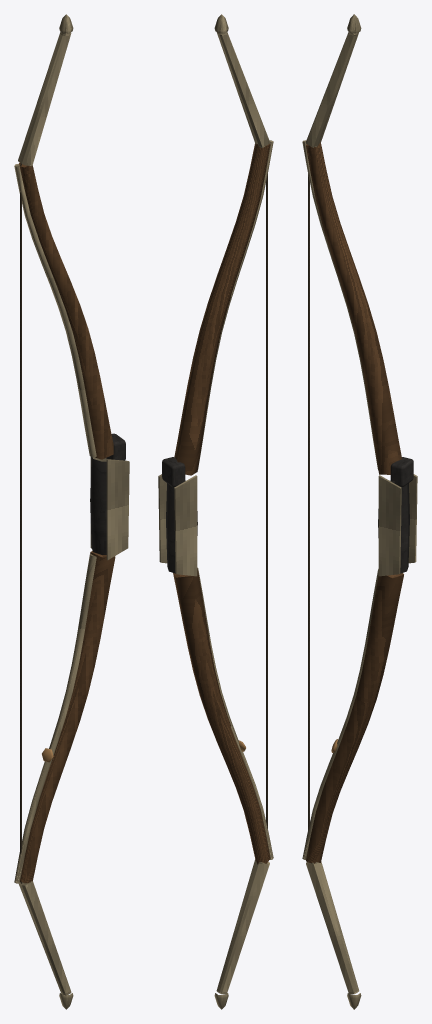
Rendered from composite-bow.lod2.glb.
3 renders of one model, left to right at view 1: azimuth 30°, elevation 25°; view 2: azimuth 210°, elevation 25°; view 3: azimuth 330°, elevation 25°, orthographic.
Visible parts, largest first — view 1: horn / polished horn and bone, wood / oiled hardwood, leather / oiled leather wrap, cord / waxed silk cord wrap; view 2: wood / oiled hardwood, horn / polished horn and bone, leather / oiled leather wrap, cord / waxed silk cord wrap; view 3: wood / oiled hardwood, horn / polished horn and bone, leather / oiled leather wrap, cord / waxed silk cord wrap.
Part boxes in pixels (left/top/right/bottom): horn / polished horn and bone: left=14, top=14, right=129, bottom=1009; wood / oiled hardwood: left=19, top=162, right=115, bottom=883; leather / oiled leather wrap: left=90, top=433, right=125, bottom=554; cord / waxed silk cord wrap: left=20, top=163, right=22, bottom=883; wood / oiled hardwood: left=173, top=143, right=270, bottom=864; horn / polished horn and bone: left=158, top=14, right=273, bottom=1009; leather / oiled leather wrap: left=162, top=457, right=197, bottom=573; cord / waxed silk cord wrap: left=266, top=174, right=267, bottom=828; wood / oiled hardwood: left=306, top=142, right=403, bottom=863; horn / polished horn and bone: left=302, top=14, right=417, bottom=1009; leather / oiled leather wrap: left=378, top=457, right=413, bottom=573; cord / waxed silk cord wrap: left=308, top=174, right=309, bottom=829.
Bounding box in the file's own units: 0.1552 × 1.39 × 0.043.
5 materials, 4 textured.
